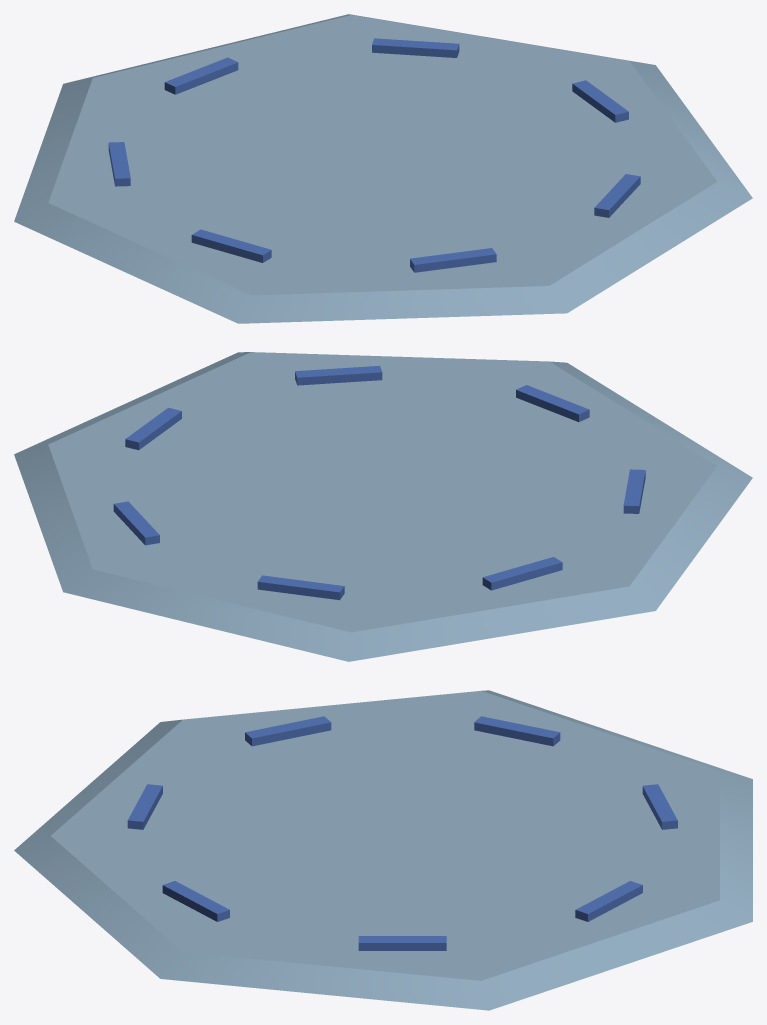
File: foundation.glb
The picture shows the model from 3 angles, top to bottom: view 1: azimuth 30°, elevation 25°; view 2: azimuth 150°, elevation 25°; view 3: azimuth 270°, elevation 25°; orthographic projection. The views are drawn at different scales.
Visible parts, largest first — view 1: foundation_inlay, foundation_rune_6, foundation_rune_2, foundation_rune_3, foundation_rune_5, foundation_rune_0, foundation_rune_1, foundation_rune_4; view 2: foundation_inlay, foundation_rune_1, foundation_rune_5, foundation_rune_4, foundation_rune_2, foundation_rune_0, foundation_rune_6, foundation_rune_3; view 3: foundation_inlay, foundation_rune_4, foundation_rune_3, foundation_rune_0, foundation_rune_1, foundation_rune_6, foundation_rune_2, foundation_rune_5.
Boxes of the visible parts, <box> form: foundation_inlay: <box>14,14,752,323</box>; foundation_rune_6: <box>372,38,459,57</box>; foundation_rune_2: <box>410,248,496,272</box>; foundation_rune_3: <box>191,229,271,262</box>; foundation_rune_5: <box>164,57,238,94</box>; foundation_rune_0: <box>572,80,628,122</box>; foundation_rune_1: <box>594,174,640,217</box>; foundation_rune_4: <box>108,142,130,186</box>; foundation_inlay: <box>14,352,752,661</box>; foundation_rune_1: <box>295,365,382,385</box>; foundation_rune_5: <box>257,575,344,600</box>; foundation_rune_4: <box>482,557,562,590</box>; foundation_rune_2: <box>516,385,589,421</box>; foundation_rune_0: <box>125,407,181,450</box>; foundation_rune_6: <box>113,501,159,545</box>; foundation_rune_3: <box>623,469,645,513</box>; foundation_inlay: <box>14,690,752,1010</box>; foundation_rune_4: <box>474,716,560,746</box>; foundation_rune_3: <box>245,716,331,746</box>; foundation_rune_0: <box>358,936,446,950</box>; foundation_rune_1: <box>162,881,229,921</box>; foundation_rune_6: <box>575,881,642,921</box>; foundation_rune_2: <box>127,784,162,829</box>; foundation_rune_5: <box>642,784,677,829</box>.
Size of what is drawn, in the model's own units: 10.33 by 0.34 by 10.08.
